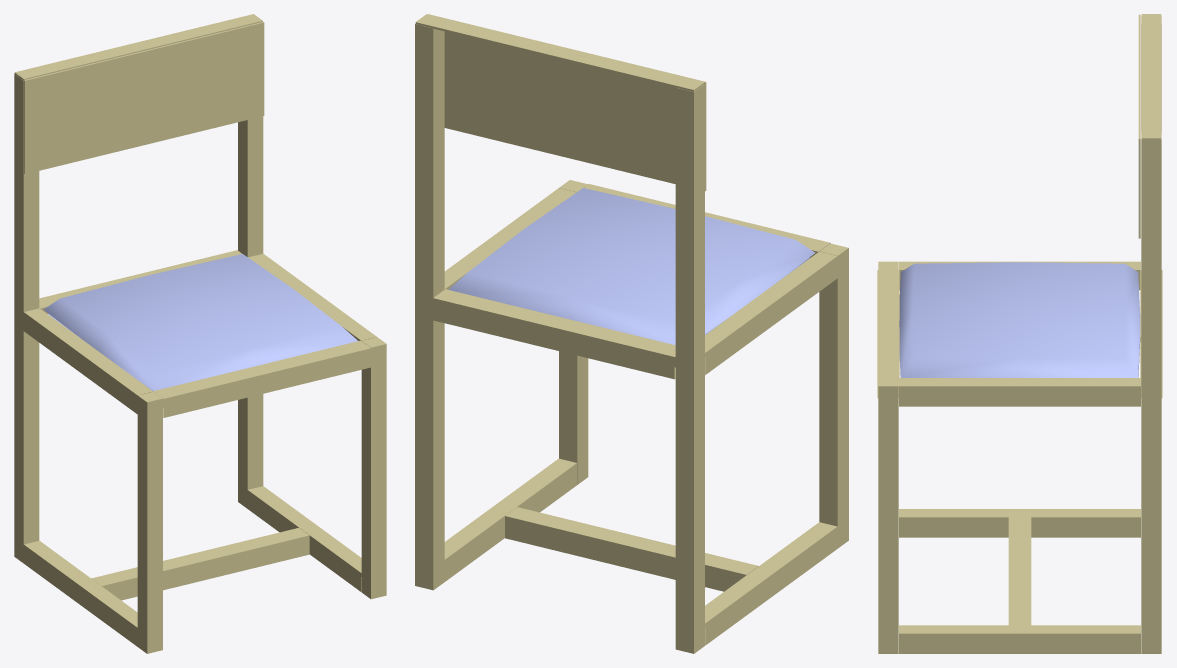
3 views of the same model, side by side, from view 1: azimuth 30°, elevation 25°; view 2: azimuth 150°, elevation 25°; view 3: azimuth 270°, elevation 25° (orthographic). The views are drawn at different scales.
Parts seen in each view (by area): view 1: chair4; view 2: chair4; view 3: chair4.
Part boxes in pixels (x1,y1,x2,y2): chair4: [14, 14, 386, 653]; chair4: [415, 14, 848, 653]; chair4: [877, 14, 1162, 653].
Bounding box in the file's own units: 49.73 × 96.05 × 48.2.
